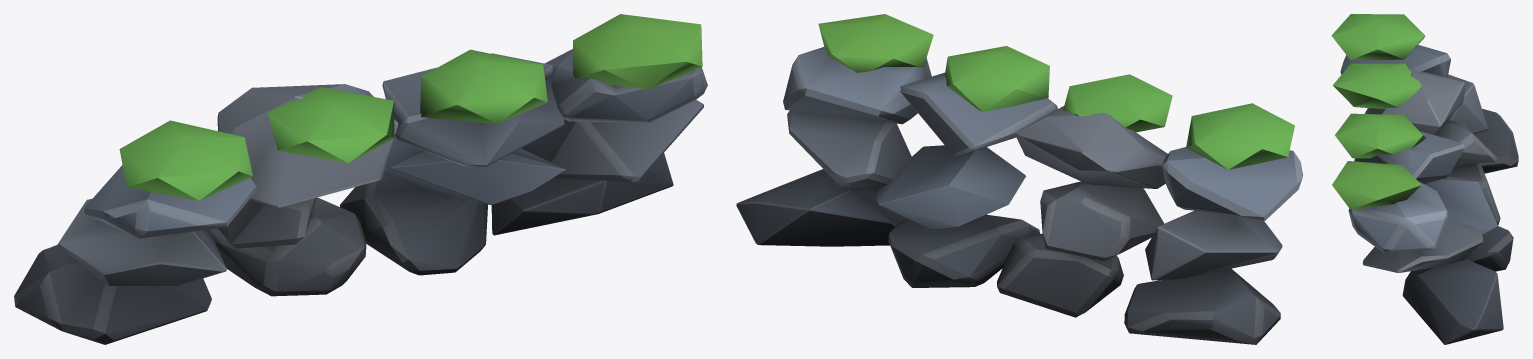
The model's file is PB_Cliff_A.glb.
3 renders of one model, left to right at view 1: azimuth 30°, elevation 25°; view 2: azimuth 150°, elevation 25°; view 3: azimuth 270°, elevation 25°, orthographic. The views are drawn at different scales.
Visible parts, largest first — view 1: PB_Cliff_A_1_Slate, PB_Cliff_A_2_SmoothPlastic; view 2: PB_Cliff_A_1_Slate, PB_Cliff_A_2_SmoothPlastic; view 3: PB_Cliff_A_1_Slate, PB_Cliff_A_2_SmoothPlastic.
Part boxes in pixels (x1,y1,x2,y2): PB_Cliff_A_1_Slate: [14, 49, 707, 344]; PB_Cliff_A_2_SmoothPlastic: [119, 14, 702, 200]; PB_Cliff_A_1_Slate: [736, 47, 1302, 344]; PB_Cliff_A_2_SmoothPlastic: [818, 14, 1294, 169]; PB_Cliff_A_1_Slate: [1340, 45, 1518, 344]; PB_Cliff_A_2_SmoothPlastic: [1331, 14, 1425, 209].
Bounding box in the file's own units: 25.76 × 8.36 × 9.54.
